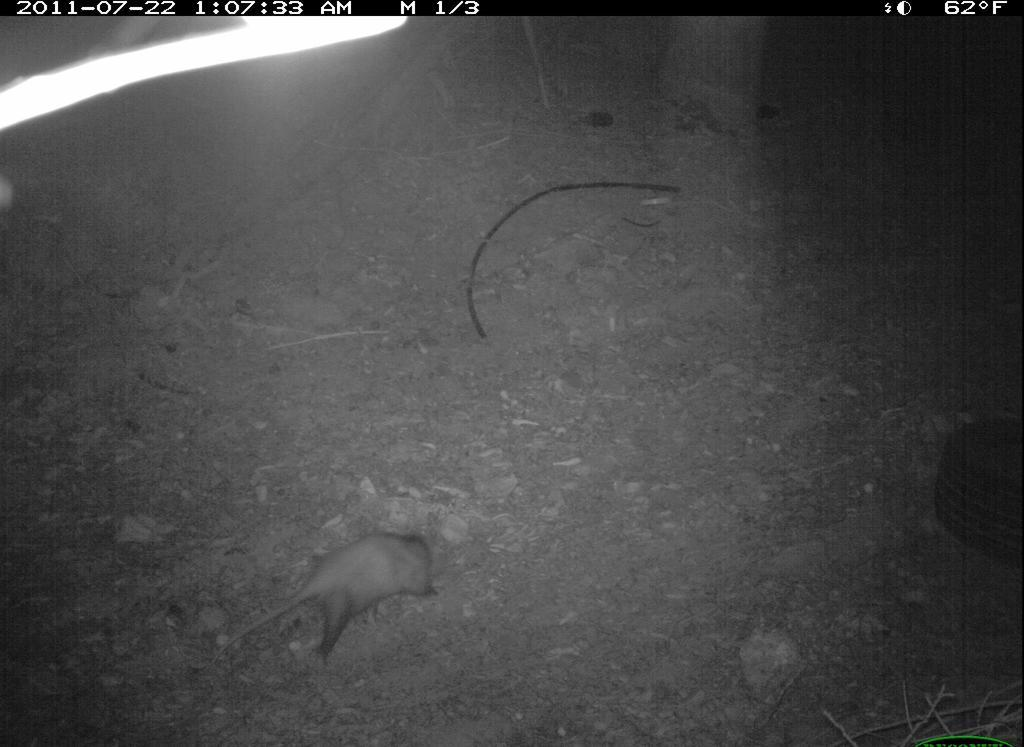opossum: (210, 527, 469, 665)
